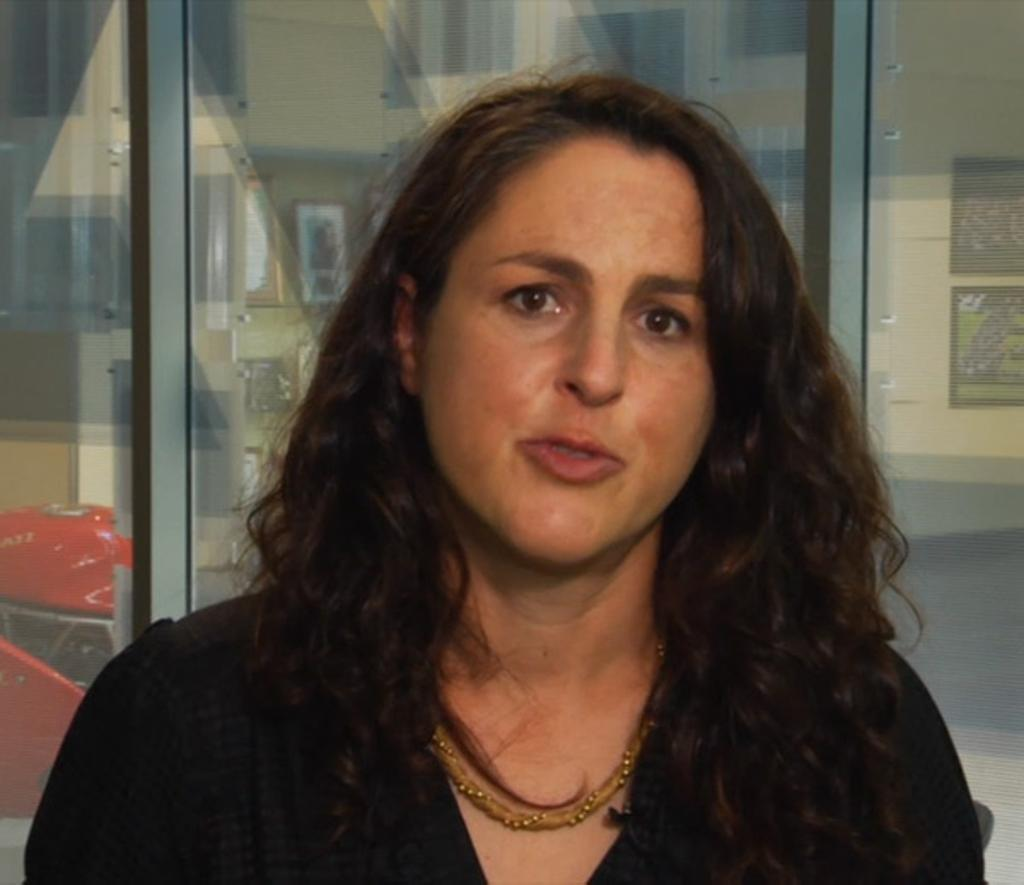face: (434, 132, 718, 564)
